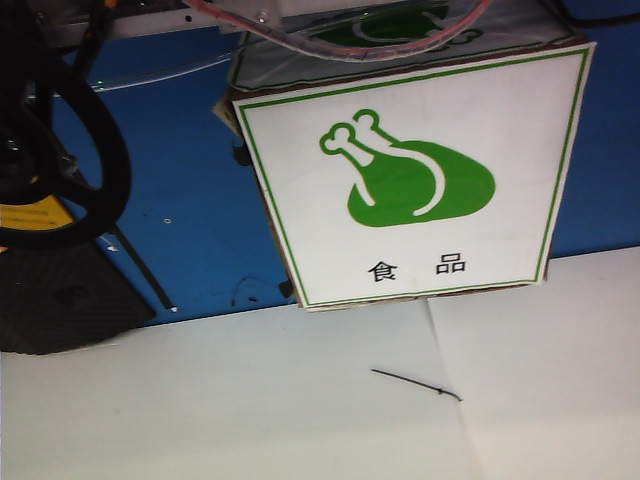Cube_food: (317, 102, 502, 289)
